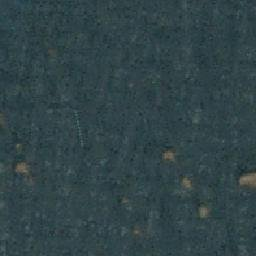debris: (237, 172, 256, 190), (14, 162, 27, 176), (180, 177, 192, 190), (163, 149, 175, 161), (199, 207, 208, 217)
